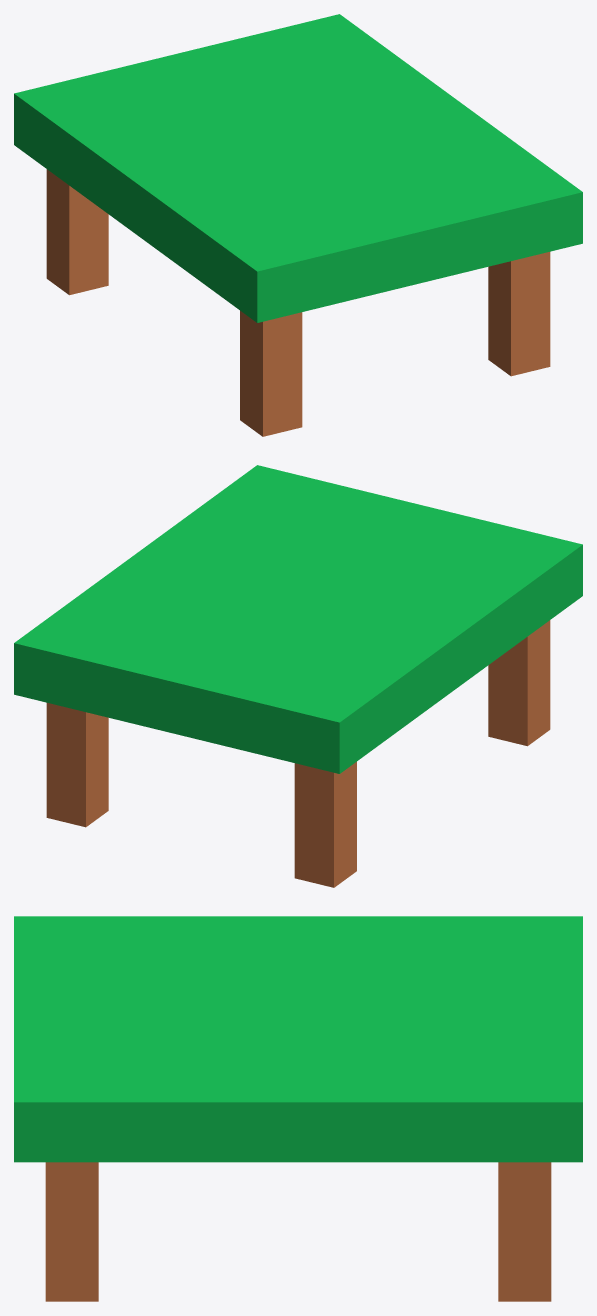
The model's file is BillardTable.gltf.
The picture shows the model from 3 angles, top to bottom: view 1: azimuth 30°, elevation 25°; view 2: azimuth 150°, elevation 25°; view 3: azimuth 270°, elevation 25°; orthographic projection. The views are drawn at different scales.
Visible parts, largest first — view 1: cuboid (×4); view 2: cuboid (×4); view 3: cuboid (×3).
Boxes of the visible parts, bbox=[...] form: cuboid (×4): bbox=[14, 14, 582, 436]; cuboid (×4): bbox=[14, 465, 582, 887]; cuboid (×3): bbox=[14, 916, 582, 1301].
Size of the model in its own units: 5.17 by 2.73 by 6.69.
2 materials, 2 textured.
